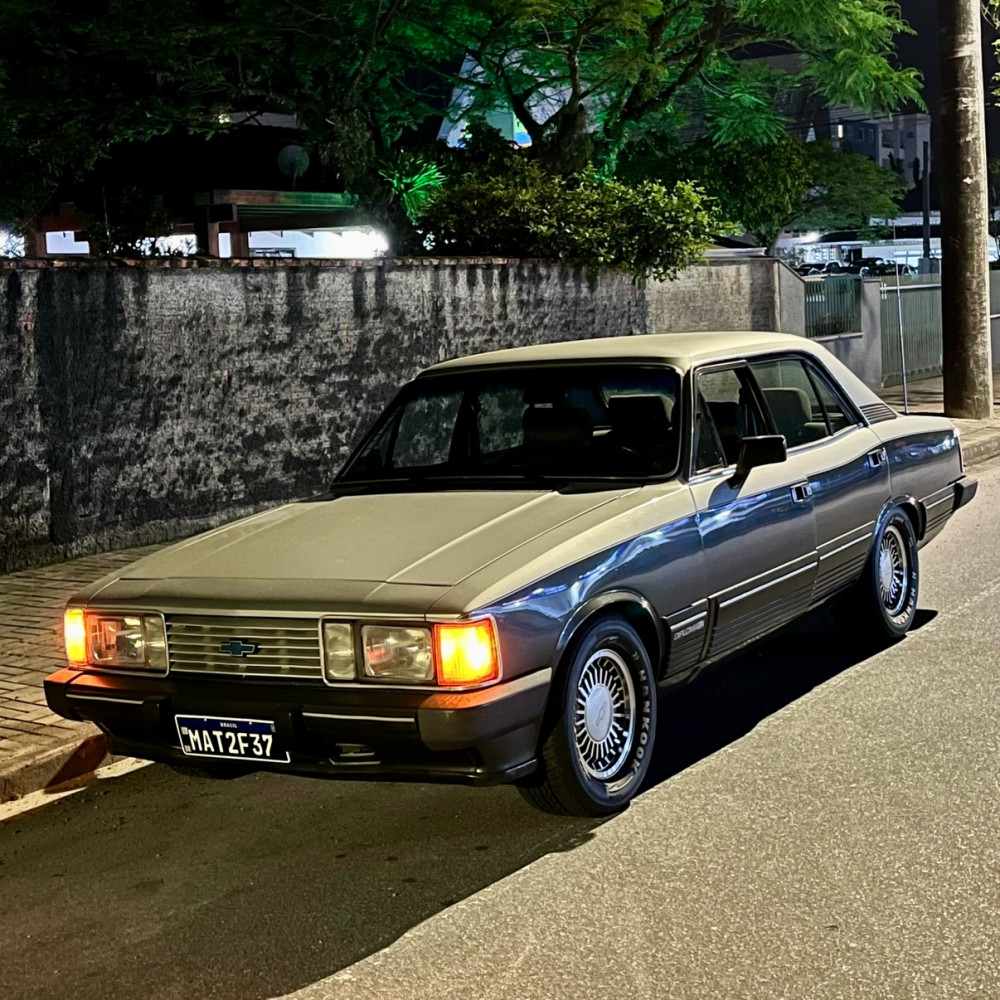car: (48, 319, 982, 847)
car_plate: (167, 706, 292, 764)
